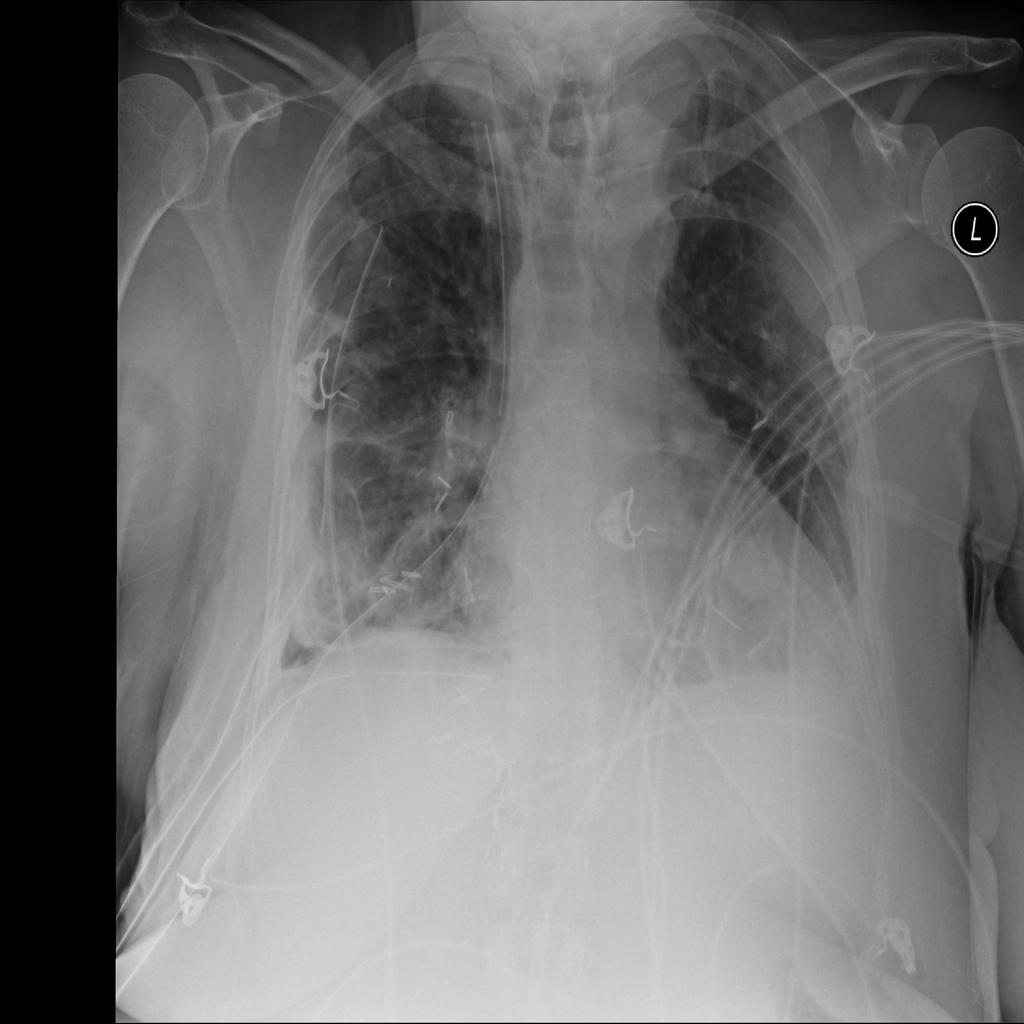nodule: (710, 502, 800, 617), (741, 305, 803, 384)
